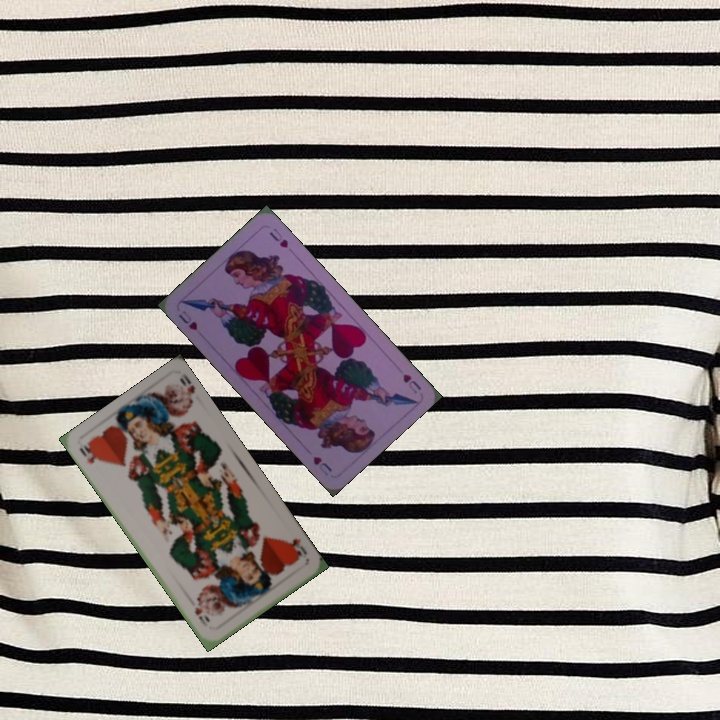HO: (281, 534, 310, 562), (75, 439, 102, 466)
HU: (174, 306, 200, 333), (399, 370, 424, 396)
